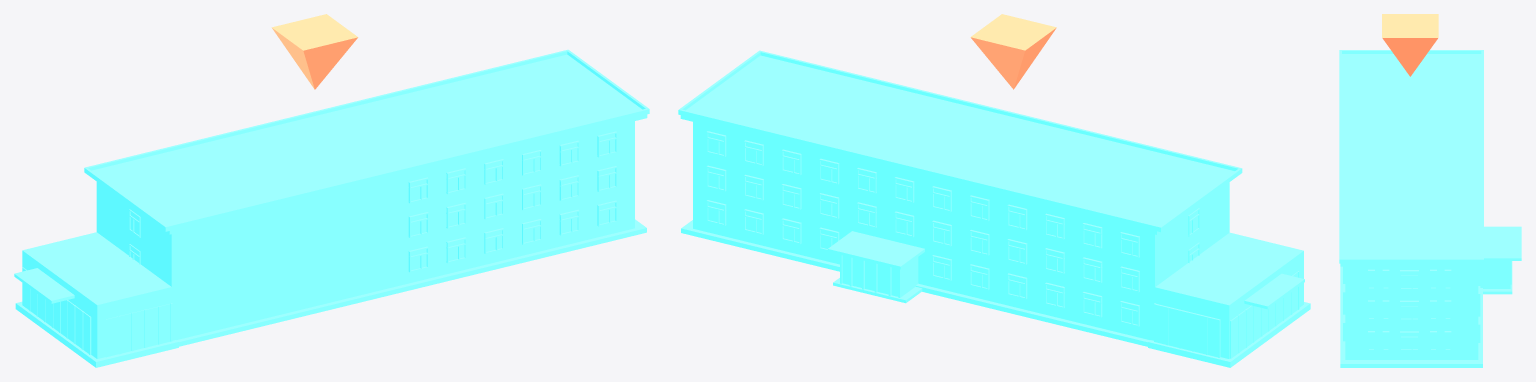
Rendered from build21.gltf.
3 views of the same model, side by side, from view 1: azimuth 30°, elevation 25°; view 2: azimuth 150°, elevation 25°; view 3: azimuth 270°, elevation 25° (orthographic). The views are drawn at different scales.
Parts seen in each view (by area): view 1: subject, fire-mark; view 2: subject, fire-mark; view 3: subject, fire-mark.
Part boxes in pixels (left/top/right/bottom): subject: left=14, top=49, right=649, bottom=367; fire-mark: left=271, top=14, right=358, bottom=89; subject: left=678, top=50, right=1310, bottom=367; fire-mark: left=970, top=14, right=1056, bottom=89; subject: left=1339, top=50, right=1521, bottom=367; fire-mark: left=1382, top=14, right=1438, bottom=76.
Bounding box in the file's own units: 60.72 × 24.77 × 18.85.
